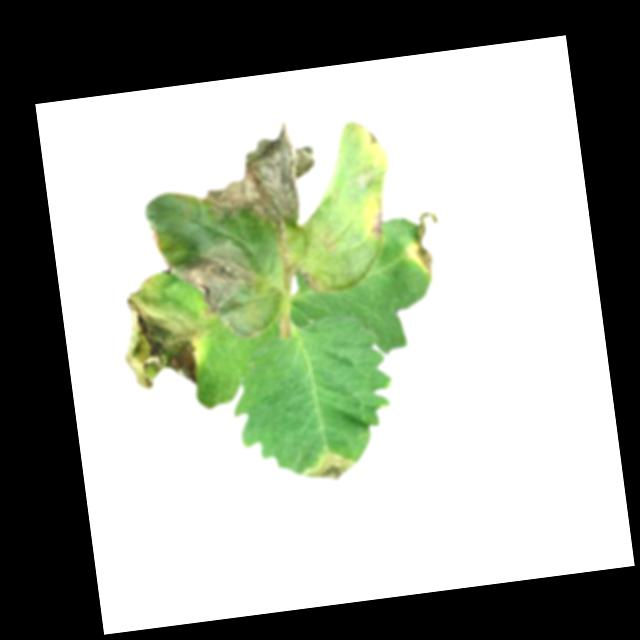Late_blight: (204, 117, 322, 240), (112, 270, 211, 395), (172, 237, 269, 345), (402, 210, 445, 277), (300, 451, 360, 485), (147, 223, 174, 272), (365, 205, 388, 242), (298, 262, 322, 293)
